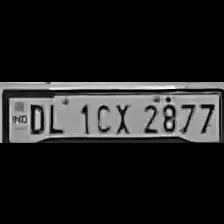1: (72, 100, 92, 134)
2: (136, 100, 160, 132)
7: (194, 100, 216, 132), (177, 100, 195, 132)
8: (158, 100, 178, 132)
C: (91, 100, 113, 132)
D: (26, 102, 46, 134)
L: (45, 99, 67, 134)
X: (111, 100, 133, 132)
